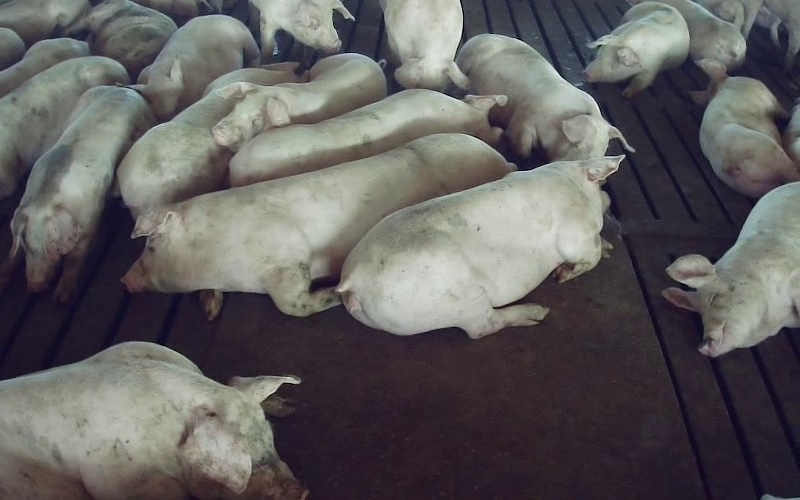pig: (337, 157, 622, 337), (0, 86, 155, 302), (117, 63, 303, 218), (230, 89, 506, 186), (662, 182, 799, 356), (456, 34, 634, 160), (0, 56, 128, 198), (213, 53, 386, 151), (690, 59, 799, 197), (135, 15, 259, 121), (66, 0, 176, 80), (381, 0, 468, 91)
